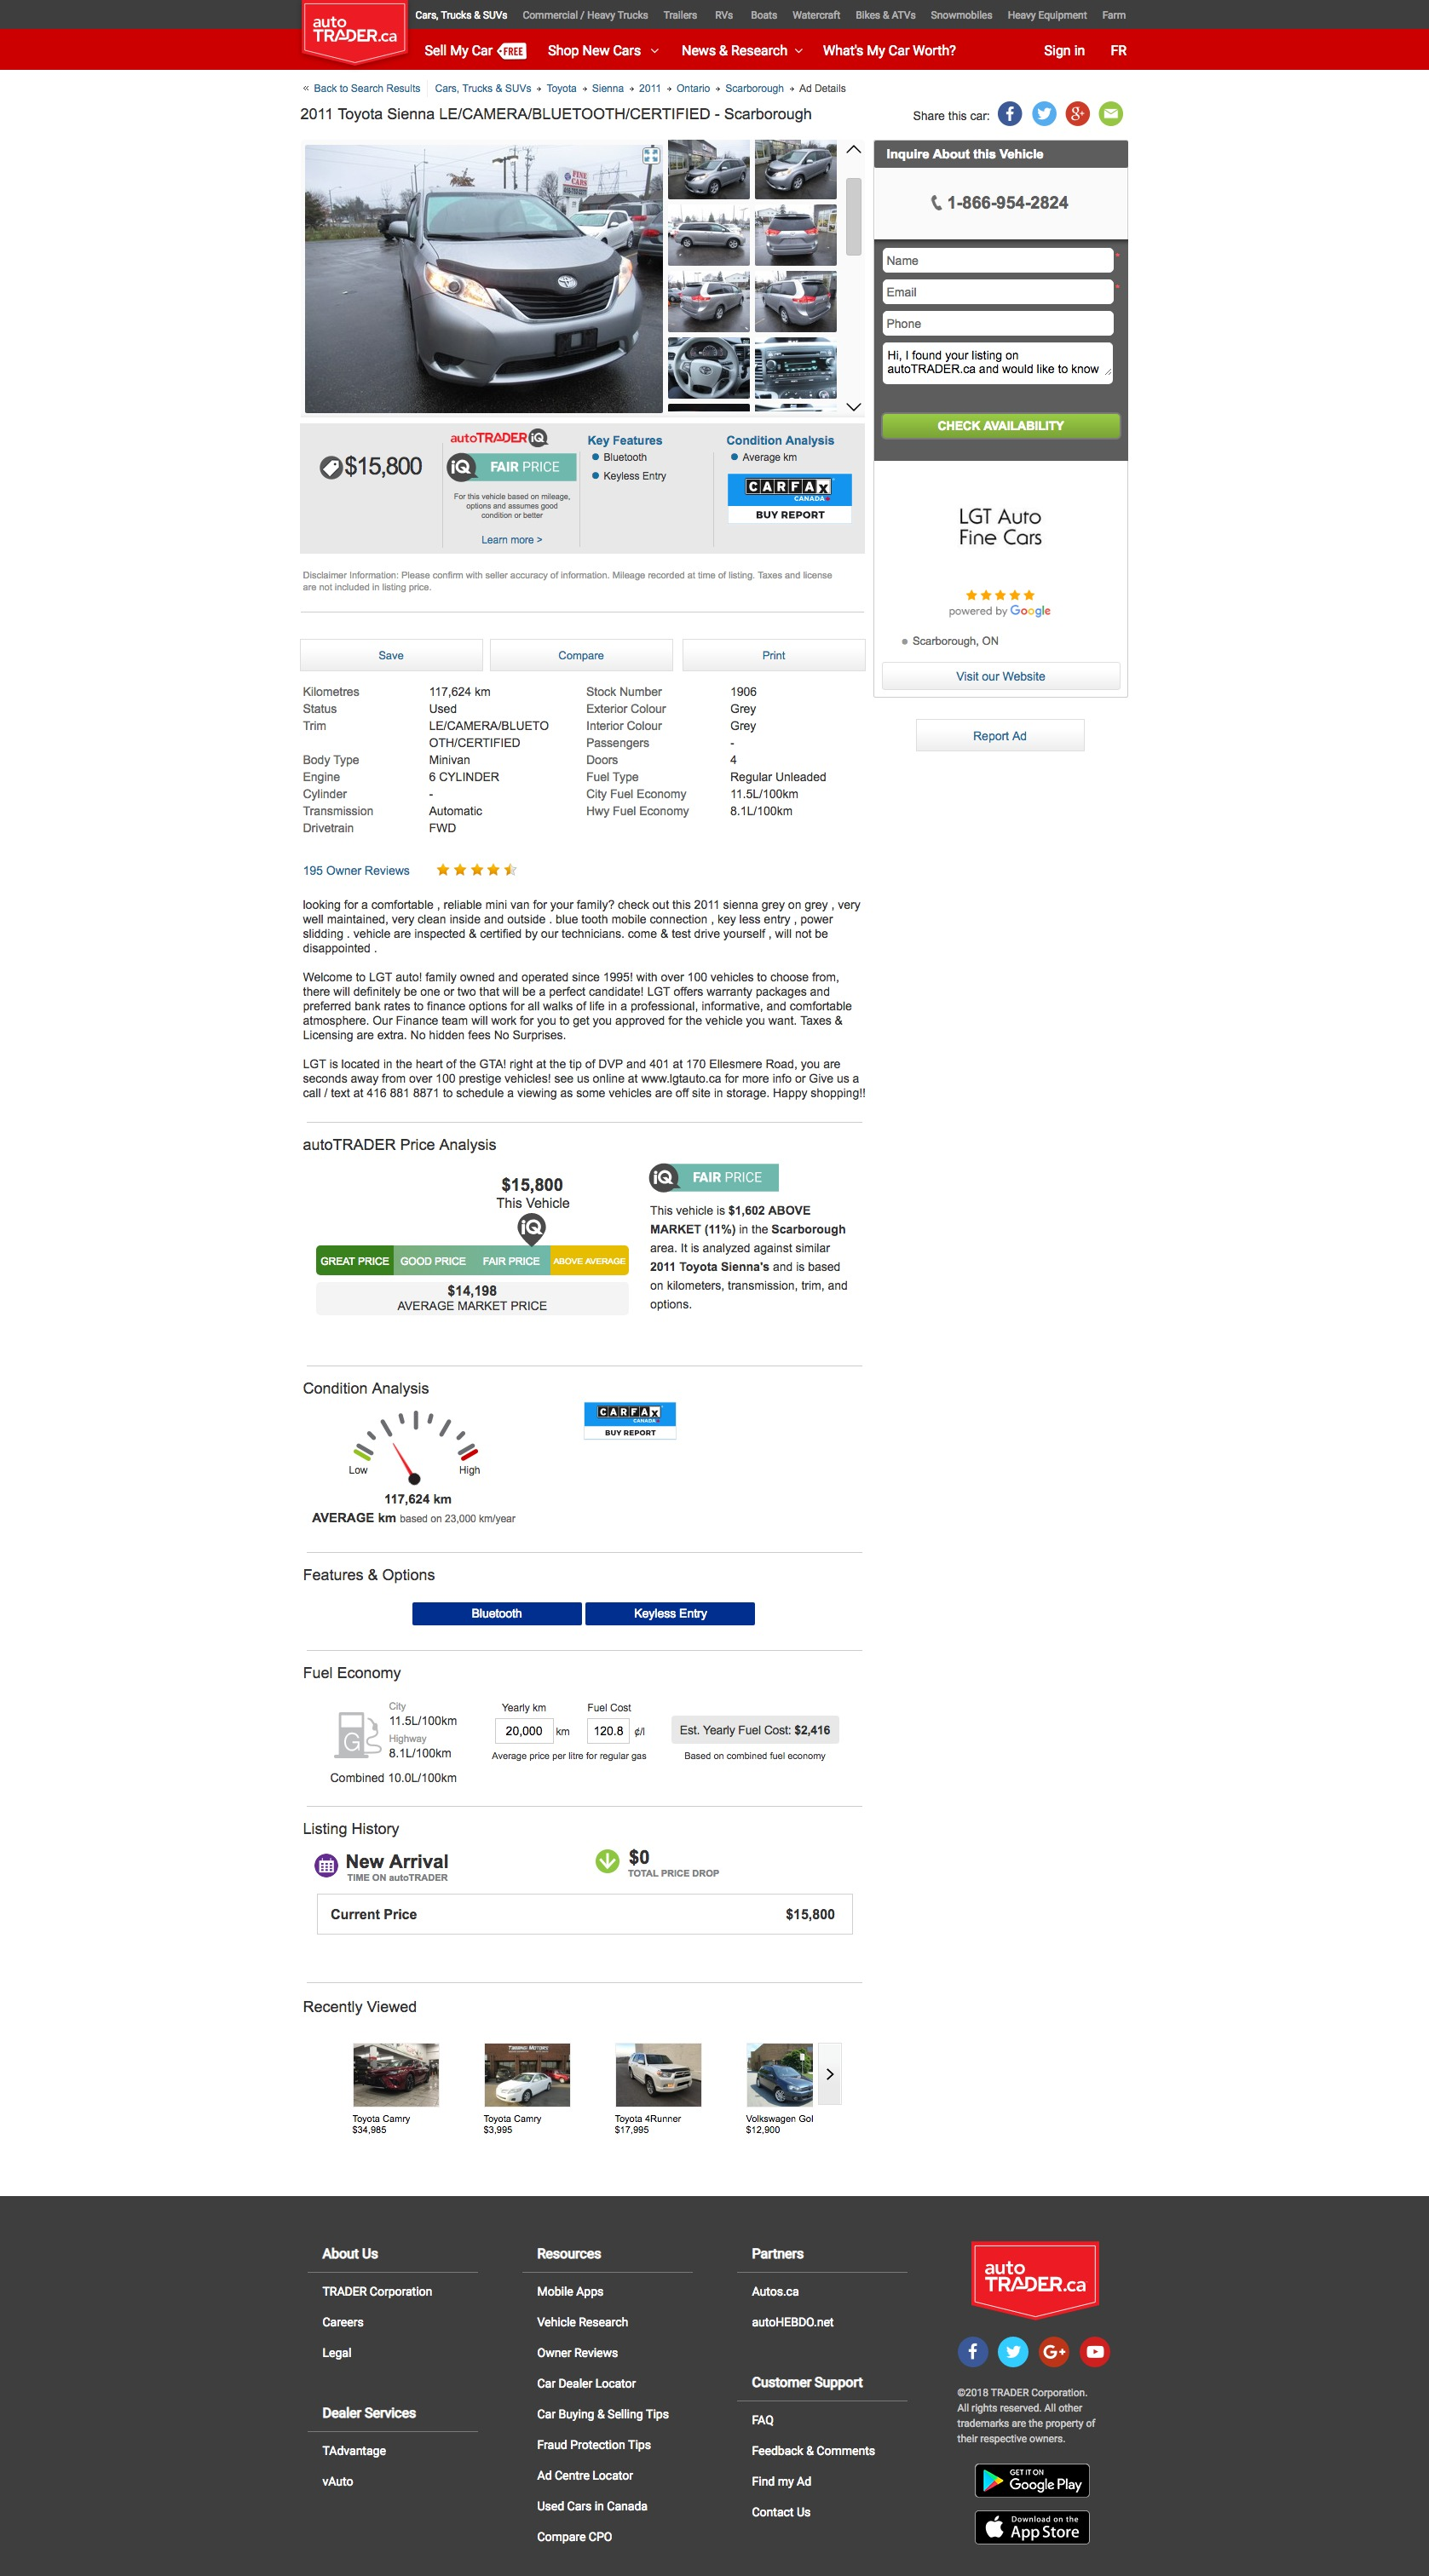car: (846, 399, 862, 413)
